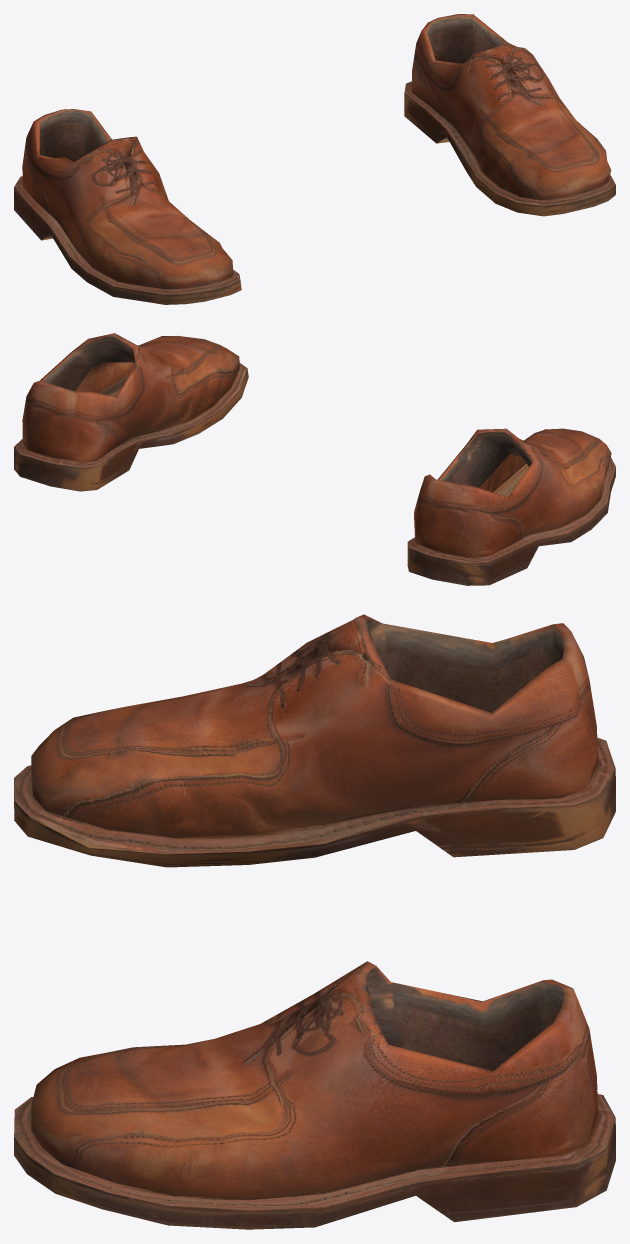
The model's file is human2.obj.
The picture shows the model from 3 angles, top to bottom: view 1: azimuth 30°, elevation 25°; view 2: azimuth 150°, elevation 25°; view 3: azimuth 270°, elevation 25°; orthographic projection. The views are drawn at different scales.
Parts seen in each view (by area): view 1: human:classic_shoes_lres; view 2: human:classic_shoes_lres; view 3: human:classic_shoes_lres.
Part boxes in pixels (x1,y1,x2,y2): human:classic_shoes_lres: [14, 14, 615, 304]; human:classic_shoes_lres: [14, 333, 615, 585]; human:classic_shoes_lres: [14, 614, 615, 1229].
Bounding box in the file's own units: 5.53 × 1.14 × 3.06.
1 material, 1 textured.
